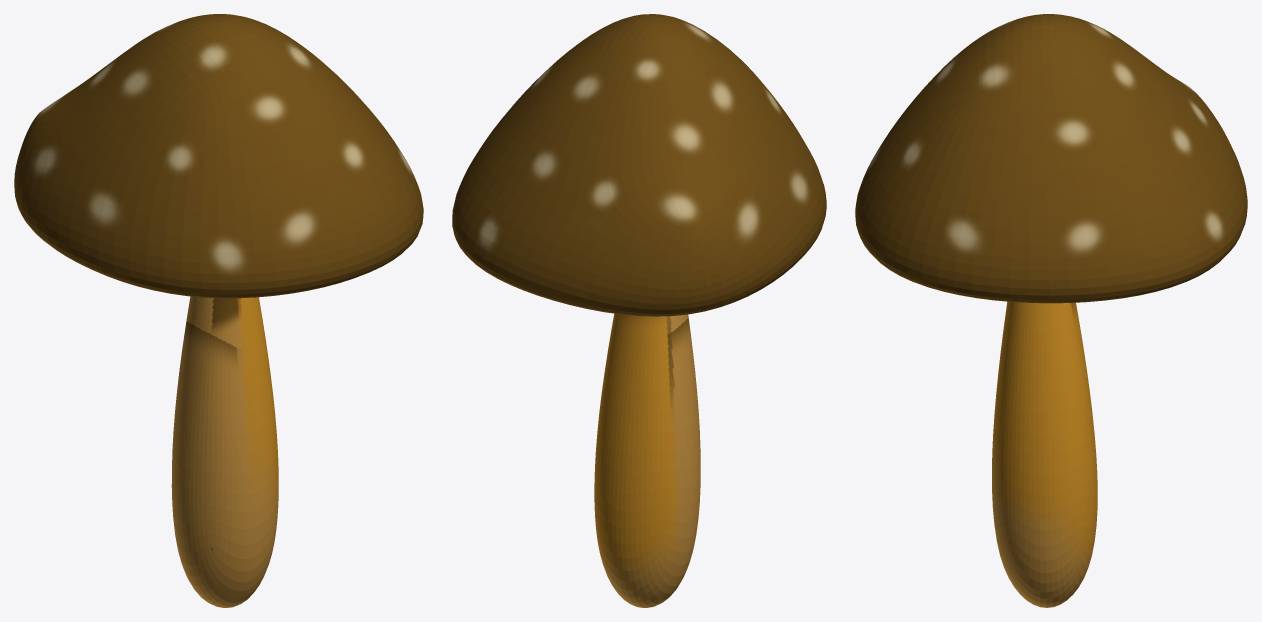
The model's file is RawMushroom2.fbx.
The picture shows the model from 3 angles, left to right: view 1: azimuth 30°, elevation 25°; view 2: azimuth 150°, elevation 25°; view 3: azimuth 270°, elevation 25°; orthographic projection.
Visible parts, largest first — view 1: Cube; view 2: Cube; view 3: Cube.
Part boxes in pixels (box(x1,y1,x2,y2)): Cube: box(14, 14, 423, 607); Cube: box(452, 14, 826, 607); Cube: box(855, 14, 1247, 607).
Bounding box in the file's own units: 380 × 656 × 401.
